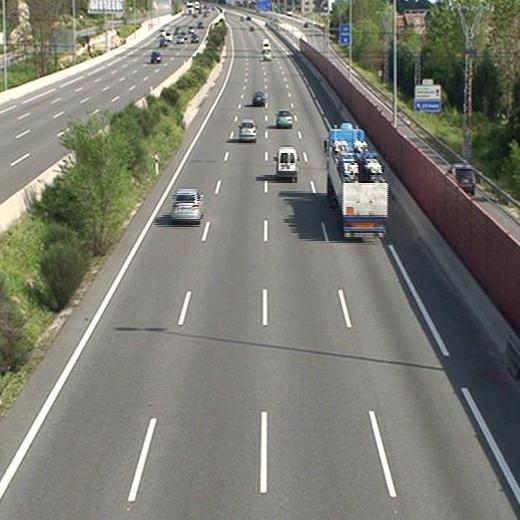car: (169, 190, 203, 223), (239, 121, 256, 142), (275, 110, 294, 127), (252, 90, 267, 107)
truck: (322, 121, 387, 238)
van: (273, 147, 300, 180)
